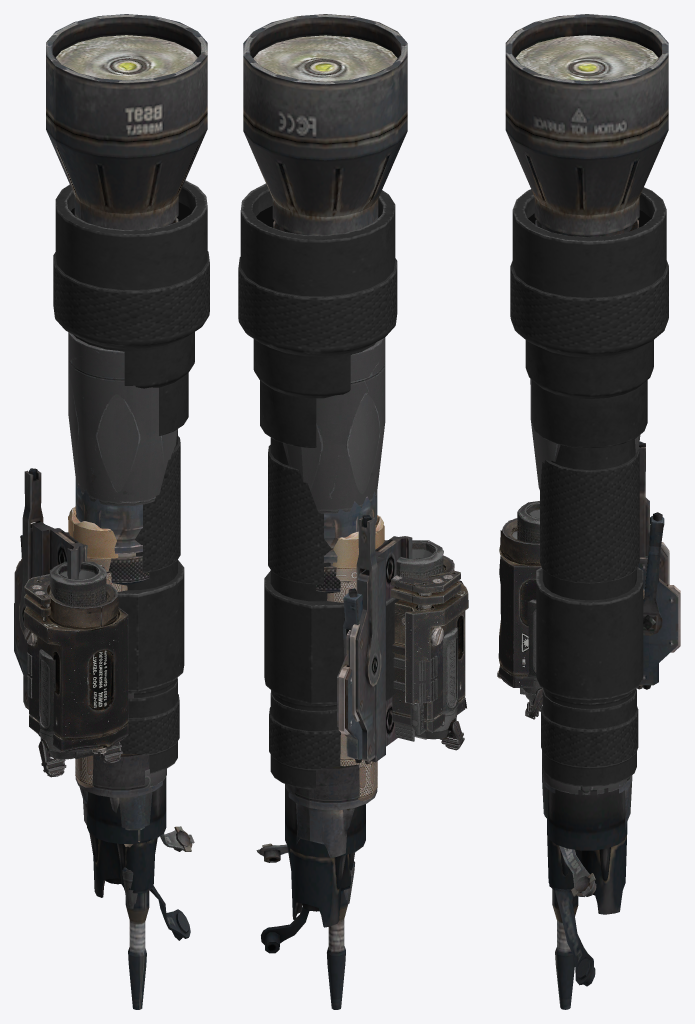
File: Light.fbx
3 renders of one model, left to right at view 1: azimuth 30°, elevation 25°; view 2: azimuth 150°, elevation 25°; view 3: azimuth 270°, elevation 25°, orthographic.
Parts seen in each view (by area): view 1: M962LT, Surefire_light, Zenit2P, M600P, Surefire_M925, SteinerTac2, InsightWMX200; view 2: Surefire_light, M962LT, M600P, Surefire_M925, Zenit2P, SteinerTac2, InsightWMX200; view 3: Surefire_light, M962LT, Surefire_M925, Zenit2P, SteinerTac2, M600P.
Boxes of the visible parts, x1,y1,x2,y2 form: M962LT: (14, 14, 207, 1009); Surefire_light: (53, 180, 209, 773); Zenit2P: (24, 574, 128, 753); M600P: (68, 332, 177, 788); Surefire_M925: (14, 479, 194, 908); SteinerTac2: (27, 561, 122, 777); InsightWMX200: (68, 506, 127, 787); Surefire_light: (238, 183, 399, 789); M962LT: (243, 14, 412, 1009); M600P: (283, 337, 385, 795); Surefire_M925: (256, 492, 377, 904); Zenit2P: (391, 555, 468, 732); SteinerTac2: (393, 540, 464, 750); InsightWMX200: (327, 515, 384, 800); Surefire_light: (510, 187, 668, 786); M962LT: (505, 14, 669, 1009); Surefire_M925: (542, 512, 680, 896); Zenit2P: (497, 518, 541, 687); SteinerTac2: (513, 501, 542, 719); M600P: (530, 379, 640, 794).
Bounding box in the file's own units: 0.0589 × 0.2903 × 0.0504.
